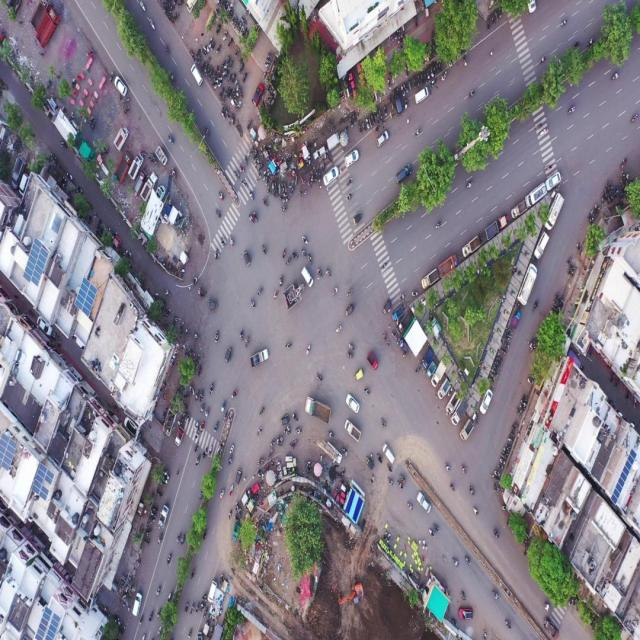3W: (240, 248, 252, 266), (352, 366, 365, 382), (345, 301, 354, 323), (206, 297, 219, 312), (353, 212, 366, 226), (381, 299, 392, 314), (224, 346, 233, 364), (279, 413, 290, 427), (366, 456, 375, 472), (234, 468, 242, 485)
Cars: (322, 162, 341, 188), (415, 491, 434, 516), (394, 162, 413, 185), (543, 616, 560, 640), (375, 128, 391, 152), (534, 232, 549, 257), (381, 441, 395, 467), (252, 80, 264, 108), (392, 88, 403, 118), (344, 394, 361, 413), (546, 171, 562, 191), (480, 388, 492, 414), (190, 64, 202, 88), (301, 265, 314, 287), (114, 77, 128, 97), (132, 588, 142, 616), (343, 149, 359, 166), (458, 604, 474, 621), (414, 88, 430, 104)
LCV: (544, 191, 566, 230), (517, 262, 537, 302), (437, 254, 457, 281), (525, 184, 546, 207), (250, 346, 270, 369), (343, 420, 363, 442), (142, 173, 158, 200), (420, 269, 439, 290), (451, 402, 468, 425), (153, 142, 168, 168), (114, 124, 128, 150), (462, 237, 480, 257), (446, 392, 460, 417), (325, 441, 342, 461), (460, 417, 473, 443), (129, 153, 142, 178), (432, 362, 446, 385), (397, 313, 412, 334), (366, 350, 380, 372), (437, 378, 451, 400), (420, 348, 434, 370), (510, 201, 526, 219), (158, 504, 169, 528), (134, 172, 146, 194), (397, 336, 409, 354), (512, 308, 522, 329), (174, 427, 185, 446), (327, 132, 340, 148), (426, 362, 436, 378), (392, 306, 403, 320)
M2W: (189, 566, 198, 582), (230, 387, 240, 400), (198, 386, 205, 404), (183, 598, 190, 616), (439, 70, 448, 84), (168, 68, 177, 82), (147, 18, 156, 32), (228, 234, 236, 249), (209, 381, 215, 401), (452, 556, 462, 568), (463, 180, 473, 192), (539, 126, 549, 138), (566, 105, 576, 117), (630, 112, 640, 124), (202, 125, 212, 137), (214, 328, 221, 345), (165, 549, 172, 566), (212, 248, 221, 261), (256, 284, 265, 297), (166, 134, 175, 147), (163, 43, 172, 56), (248, 190, 256, 204), (272, 286, 279, 302), (192, 439, 199, 455), (463, 552, 471, 566), (304, 343, 312, 357), (180, 530, 187, 546), (285, 340, 293, 353), (376, 453, 384, 466), (341, 445, 349, 458), (228, 482, 234, 499), (413, 127, 423, 137), (558, 18, 568, 28), (611, 72, 620, 83), (537, 53, 546, 64), (261, 242, 268, 256), (204, 406, 211, 420), (208, 446, 215, 460), (504, 618, 511, 632), (156, 532, 163, 546), (262, 198, 270, 210), (249, 297, 257, 309), (238, 328, 244, 344), (244, 332, 250, 348), (200, 420, 206, 436), (195, 452, 203, 464), (154, 584, 160, 600), (166, 588, 172, 604), (202, 527, 208, 543), (344, 193, 352, 205), (198, 362, 204, 378), (216, 208, 223, 221), (217, 191, 224, 204), (492, 527, 499, 540), (221, 398, 227, 413), (220, 485, 226, 500), (193, 419, 199, 434), (433, 221, 442, 231), (543, 162, 552, 172), (534, 122, 543, 132), (155, 489, 164, 499), (508, 422, 518, 431), (448, 482, 456, 493), (346, 176, 354, 187), (220, 236, 227, 248), (258, 406, 265, 418), (256, 424, 263, 436), (460, 586, 466, 600), (325, 266, 332, 278), (301, 234, 308, 246), (109, 71, 116, 83), (70, 77, 76, 91), (227, 36, 233, 50), (215, 22, 221, 36), (428, 529, 437, 538), (396, 480, 404, 490), (399, 473, 407, 483), (406, 501, 414, 511), (432, 524, 440, 534), (460, 463, 468, 473), (316, 372, 324, 382), (468, 88, 476, 98), (525, 375, 533, 385), (587, 38, 595, 48), (280, 247, 286, 260), (380, 417, 386, 430), (140, 0, 146, 13), (300, 175, 306, 188), (238, 162, 244, 175), (576, 242, 582, 255), (228, 454, 235, 465), (472, 506, 479, 517), (316, 267, 323, 278), (252, 210, 258, 222), (492, 590, 500, 599), (469, 483, 475, 495), (413, 367, 421, 376), (199, 403, 205, 415), (189, 49, 195, 61), (552, 292, 558, 304), (564, 257, 572, 266), (444, 462, 451, 472), (364, 386, 371, 396), (335, 324, 342, 334), (348, 341, 355, 351), (346, 351, 353, 361), (346, 287, 353, 297), (380, 261, 387, 271), (176, 530, 181, 544), (328, 428, 335, 438), (532, 301, 539, 311), (233, 170, 240, 180), (567, 268, 574, 278), (228, 442, 234, 453), (300, 247, 306, 258), (189, 385, 195, 396), (242, 72, 248, 83), (222, 29, 228, 40), (239, 88, 245, 99), (195, 47, 201, 58), (214, 420, 219, 433), (194, 389, 199, 402), (267, 183, 272, 196), (265, 174, 270, 187), (196, 353, 200, 369), (383, 103, 387, 119), (386, 463, 393, 472), (481, 630, 488, 639), (242, 179, 249, 188), (503, 341, 510, 350), (573, 40, 580, 49), (278, 276, 283, 288), (388, 476, 394, 486), (332, 287, 338, 297), (307, 252, 312, 264), (478, 230, 483, 242), (399, 292, 405, 302), (270, 438, 276, 448), (124, 104, 130, 114), (328, 121, 333, 133), (284, 193, 290, 203), (262, 170, 267, 182), (234, 46, 240, 56), (231, 73, 236, 85), (226, 54, 231, 66), (229, 60, 234, 72), (220, 60, 226, 70), (378, 108, 383, 120), (411, 290, 419, 297), (228, 507, 232, 521), (143, 538, 150, 546), (496, 465, 504, 472), (506, 435, 513, 443), (499, 348, 507, 355), (358, 122, 362, 136), (362, 120, 366, 134), (309, 171, 314, 182), (214, 66, 219, 77), (349, 117, 354, 128), (292, 250, 298, 259), (286, 257, 292, 266), (296, 425, 302, 434), (292, 412, 298, 421), (288, 179, 294, 188), (391, 331, 397, 340), (494, 470, 500, 479), (244, 154, 248, 167), (341, 467, 346, 477), (141, 151, 148, 158), (569, 264, 576, 271), (281, 205, 287, 213), (92, 118, 96, 130), (239, 63, 245, 71), (216, 44, 222, 52), (201, 48, 207, 56), (504, 443, 512, 449), (521, 399, 527, 407), (462, 51, 466, 63), (424, 72, 428, 84), (210, 41, 215, 50), (282, 430, 291, 435), (516, 408, 521, 417), (235, 80, 239, 91), (214, 78, 218, 89), (147, 157, 153, 164), (492, 364, 498, 371), (552, 306, 559, 312), (431, 79, 437, 86), (284, 182, 288, 192), (208, 37, 212, 47), (218, 77, 222, 87), (204, 63, 208, 73), (353, 114, 357, 124), (318, 170, 321, 183), (274, 181, 277, 194), (495, 10, 498, 23), (417, 74, 420, 87), (421, 74, 424, 87), (315, 170, 318, 182), (278, 182, 281, 194), (279, 196, 285, 202), (151, 511, 157, 517), (228, 72, 231, 84), (258, 472, 264, 478), (500, 459, 506, 465), (491, 14, 494, 26), (387, 78, 390, 90), (388, 94, 391, 106), (404, 84, 408, 93), (408, 80, 411, 92), (412, 78, 416, 87), (436, 64, 439, 76), (438, 61, 441, 73), (433, 44, 436, 56), (366, 118, 369, 130), (376, 120, 379, 132), (204, 46, 211, 51), (496, 356, 503, 361), (486, 19, 489, 30), (290, 187, 294, 195), (295, 176, 298, 186), (145, 531, 151, 536), (507, 328, 513, 333), (430, 68, 433, 77), (434, 66, 437, 75)
Truck: (34, 6, 58, 44), (301, 396, 332, 425), (115, 151, 133, 182)
